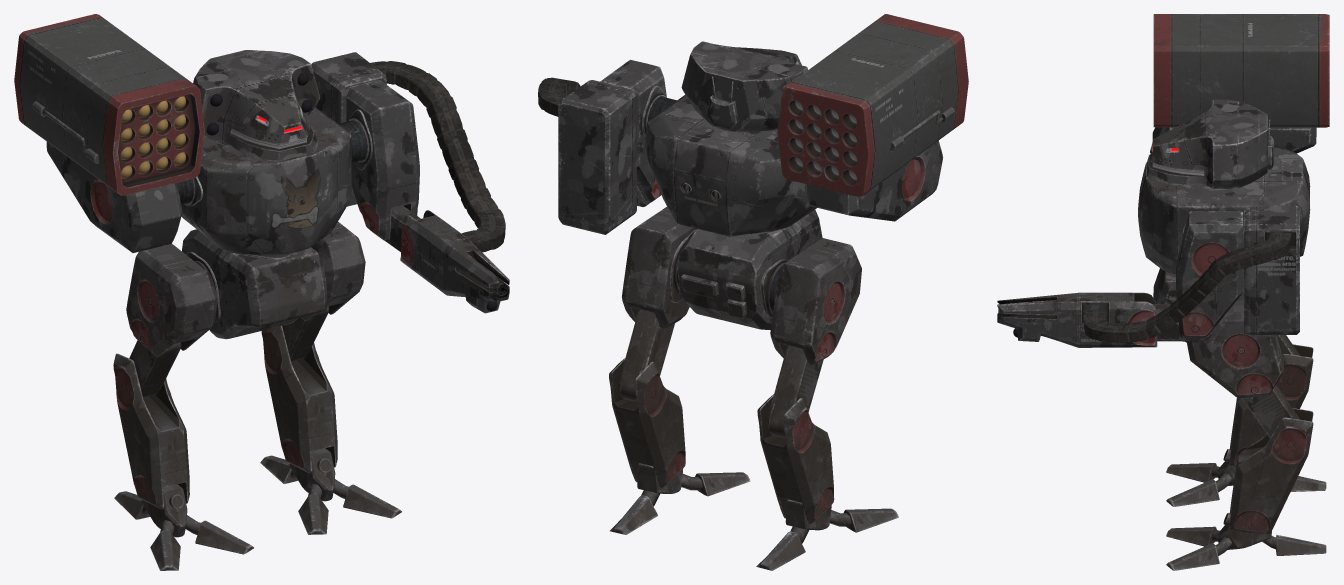
The model's file is metal_suit_bone_renamed.glb.
3 views of the same model, side by side, from view 1: azimuth 30°, elevation 25°; view 2: azimuth 150°, elevation 25°; view 3: azimuth 270°, elevation 25° (orthographic). The views are drawn at different scales.
Visible parts, largest first — view 1: Rocket_Launcher_Module_Mesh, p.001_low, p.002_low, p.016_low, p.017_low, p.008_low, p.004_low, p.022_low, p.015_low, Gun_Module_Mesh, p.011_low, p.006_low (+7 smaller); view 2: Rocket_Launcher_Module_Mesh, p.001_low, p.017_low, p.002_low, p.006_low, p.008_low, p.016_low, p.010_low, p.015_low, p.004_low, p.030_low, p.011_low (+7 smaller); view 3: Rocket_Launcher_Module_Mesh, p.002_low, p.001_low, p.016_low, p.006_low, Gun_Module_Mesh, p.004_low, p.017_low, p.022_low, p.011_low, p.010_low, p.030_low (+5 smaller).
Part boxes in pixels (bbox=[...]): Rocket_Launcher_Module_Mesh: bbox=[14, 14, 204, 195]; p.001_low: bbox=[181, 107, 351, 254]; p.002_low: bbox=[113, 326, 337, 509]; p.016_low: bbox=[193, 50, 319, 161]; p.017_low: bbox=[126, 222, 365, 356]; p.008_low: bbox=[182, 229, 327, 339]; p.004_low: bbox=[346, 80, 419, 240]; p.022_low: bbox=[370, 61, 505, 252]; p.015_low: bbox=[46, 142, 182, 252]; Gun_Module_Mesh: bbox=[400, 210, 509, 313]; p.011_low: bbox=[150, 484, 401, 570]; p.006_low: bbox=[311, 52, 386, 206]; Rocket_Launcher_Module_Mesh: bbox=[777, 14, 968, 196]; p.001_low: bbox=[645, 94, 817, 236]; p.017_low: bbox=[622, 207, 861, 365]; p.002_low: bbox=[609, 358, 834, 524]; p.006_low: bbox=[558, 80, 636, 234]; p.008_low: bbox=[677, 209, 822, 330]; p.016_low: bbox=[681, 41, 807, 131]; p.010_low: bbox=[619, 309, 823, 438]; p.015_low: bbox=[807, 140, 943, 221]; p.004_low: bbox=[600, 59, 666, 202]; p.030_low: bbox=[610, 495, 805, 570]; p.011_low: bbox=[695, 472, 898, 532]; Rocket_Launcher_Module_Mesh: bbox=[1153, 14, 1329, 127]; p.002_low: bbox=[1229, 344, 1313, 534]; p.001_low: bbox=[1138, 144, 1310, 274]; p.016_low: bbox=[1147, 99, 1267, 188]; p.006_low: bbox=[1244, 205, 1299, 334]; Gun_Module_Mesh: bbox=[997, 292, 1157, 347]; p.004_low: bbox=[1175, 211, 1243, 338]; p.017_low: bbox=[1186, 300, 1283, 397]; p.022_low: bbox=[1083, 232, 1291, 342]; p.011_low: bbox=[1166, 463, 1219, 570]; p.010_low: bbox=[1241, 335, 1299, 437]; p.030_low: bbox=[1276, 476, 1326, 555].
Bounding box in the file's own units: 9.2 × 11.29 × 7.89.
Materials: 1 (1 with a texture image).
